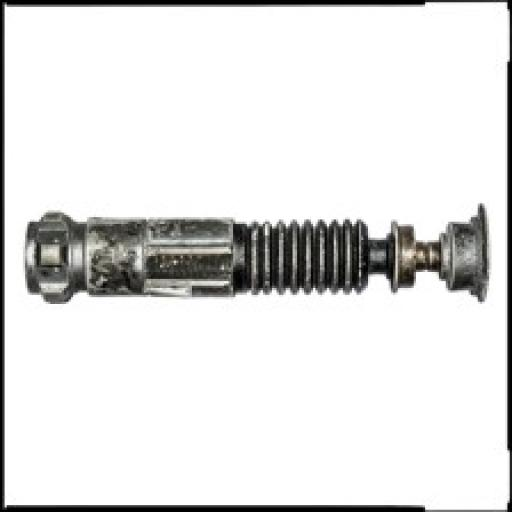lightsaber: (19, 200, 492, 302)
